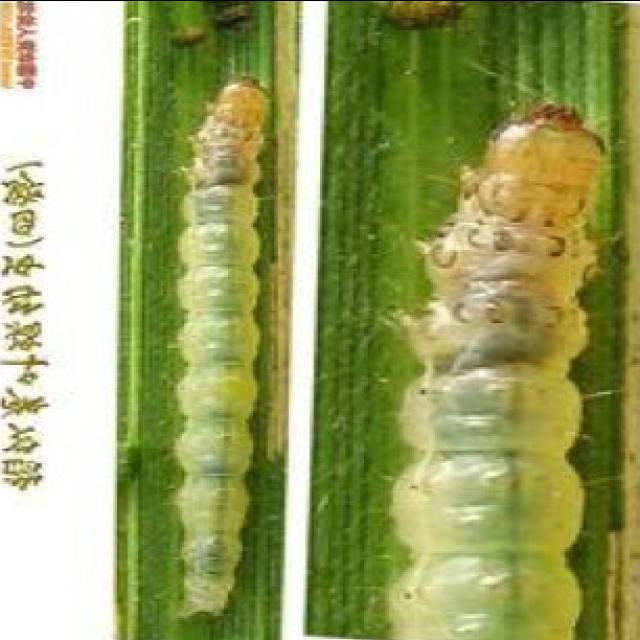rice leaf roller: (383, 102, 607, 640), (178, 77, 268, 615), (174, 0, 255, 46), (381, 0, 464, 29)
